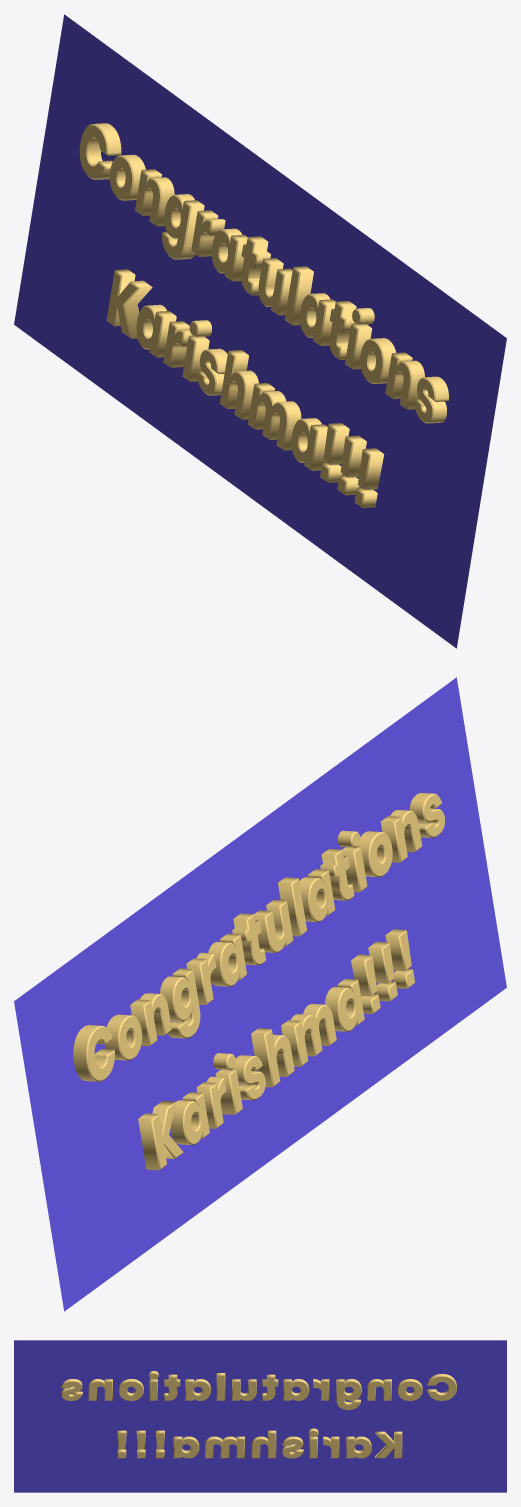
File: wishes5.gltf
3 renders of one model, top to bottom at view 1: azimuth 30°, elevation 25°; view 2: azimuth 150°, elevation 25°; view 3: azimuth 270°, elevation 25°, orthographic. The views are drawn at different scales.
Visible parts, largest first — view 1: Plane, Text.002; view 2: Plane, Text.002; view 3: Plane, Text.002.
Part boxes in pixels (left/top/right/bottom): Plane: left=14, top=14, right=506, bottom=648; Text.002: left=79, top=123, right=448, bottom=507; Plane: left=14, top=677, right=506, bottom=1311; Text.002: left=73, top=793, right=444, bottom=1170; Plane: left=14, top=1340, right=506, bottom=1492; Text.002: left=61, top=1371, right=456, bottom=1458.
Bounding box in the file's own units: 0.4782 × 2.61 × 7.02.
